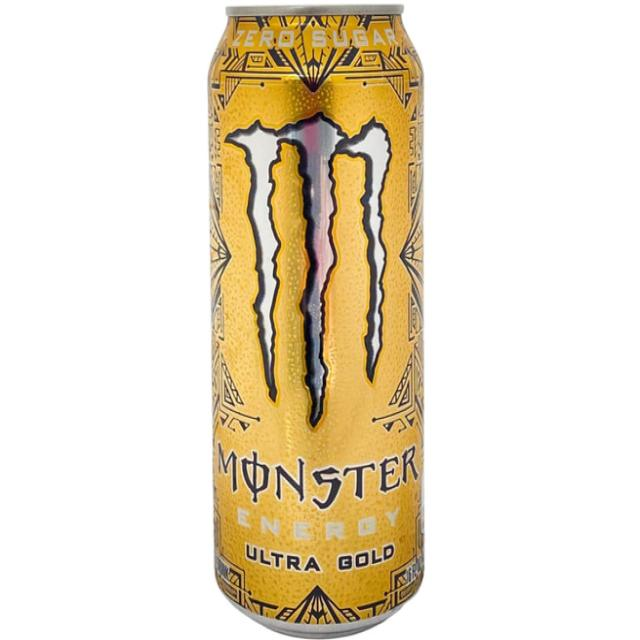Cans: (204, 0, 428, 640)
